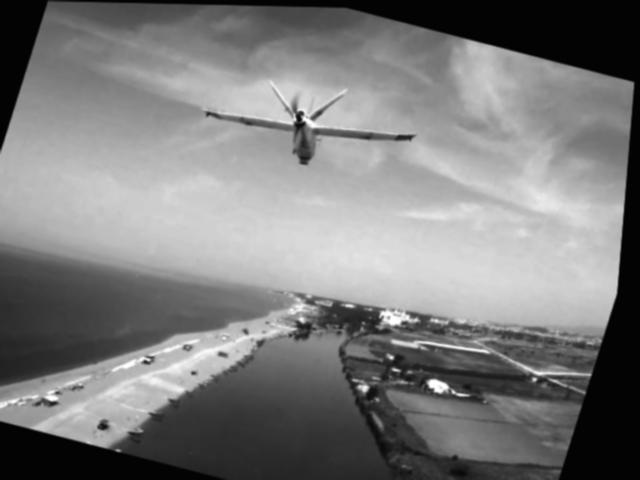hedef: (173, 44, 442, 219)
